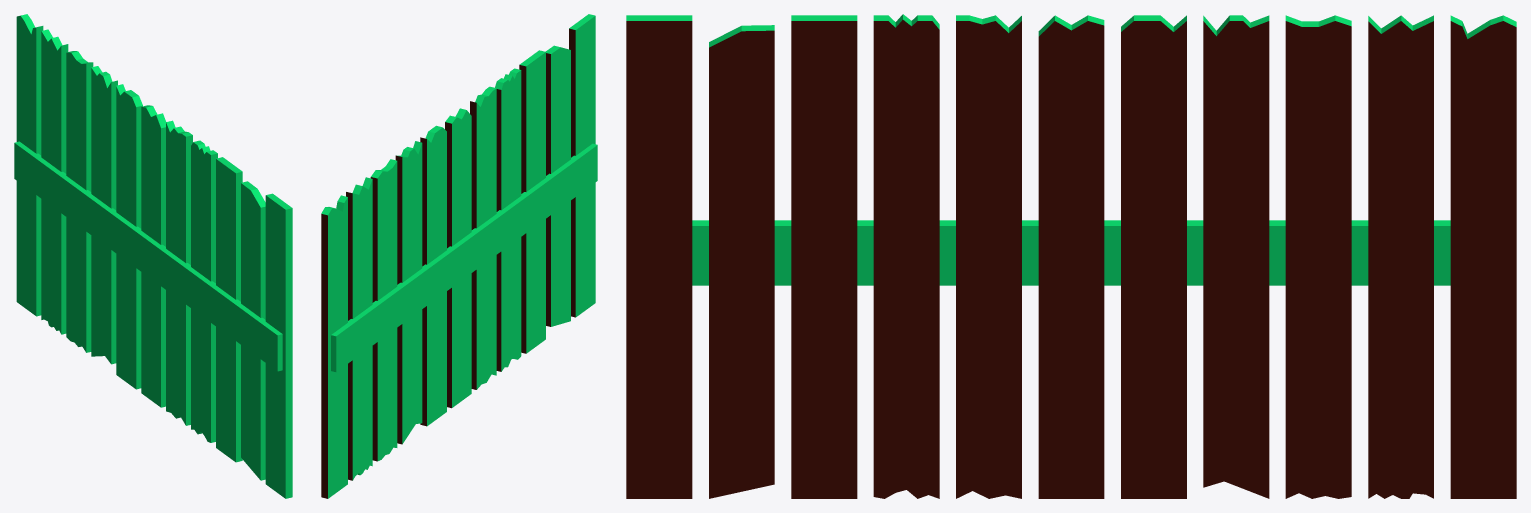
The model's file is Gate.fbx.
The picture shows the model from 3 angles, left to right: view 1: azimuth 30°, elevation 25°; view 2: azimuth 150°, elevation 25°; view 3: azimuth 270°, elevation 25°; orthographic projection. The views are drawn at different scales.
Parts seen in each view (by area): view 1: Cube.003; view 2: Cube.003; view 3: Cube.003.
Part boxes in pixels (<box>): Cube.003: <box>14,14,292,498</box>; Cube.003: <box>321,14,597,498</box>; Cube.003: <box>626,14,1516,498</box>.
Bounding box in the file's own units: 35 × 802 × 1350.
